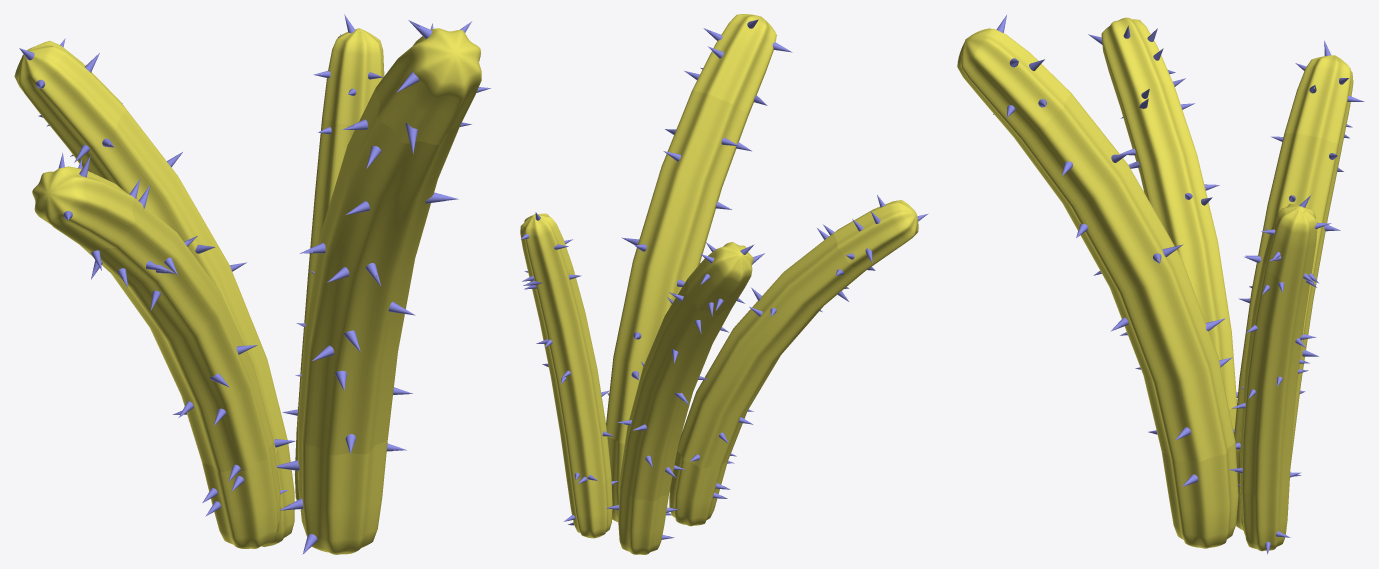
Rendered from cactus04.fbx.
The picture shows the model from 3 angles, left to right: view 1: azimuth 30°, elevation 25°; view 2: azimuth 150°, elevation 25°; view 3: azimuth 270°, elevation 25°; orthographic projection. The views are drawn at different scales.
Parts seen in each view (by area): view 1: Extrude, Cone_0; view 2: Extrude, Cone_0; view 3: Extrude, Cone_0.
Part boxes in pixels (x1,y1,x2,y2): Extrude: (14,28,481,554); Cone_0: (19,14,490,554); Extrude: (520,14,918,554); Cone_0: (521,19,928,539); Extrude: (957,17,1353,551); Cone_0: (993,15,1364,554).
Size of the model in its own units: 2044 by 2757 by 1969.
